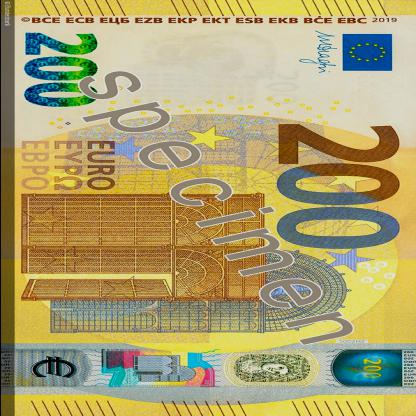euro_banknote: (8, 7, 416, 410)
